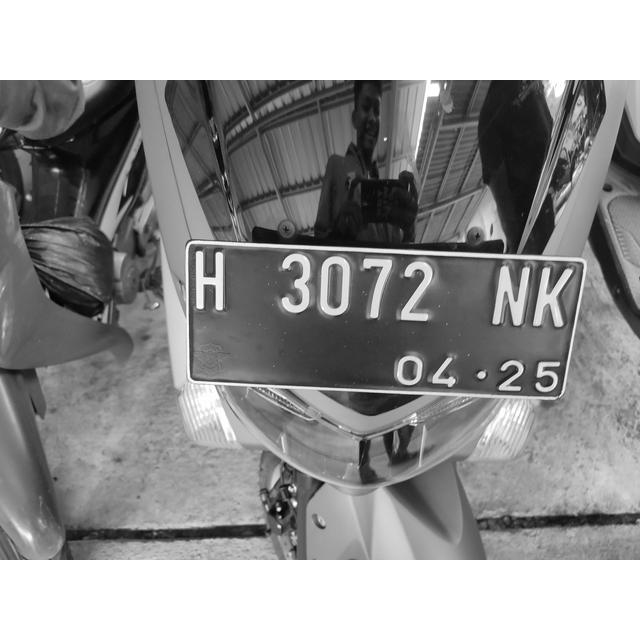license: (192, 247, 576, 402)
